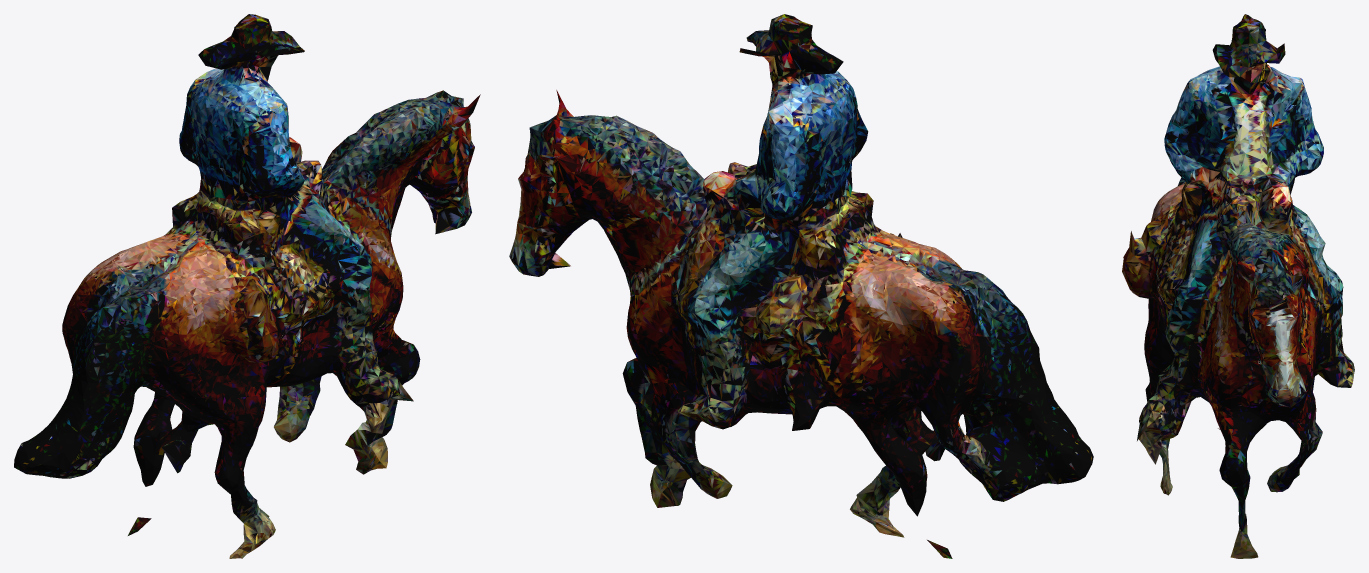
File: arthur_horse-canny.glb
The picture shows the model from 3 angles, left to right: view 1: azimuth 30°, elevation 25°; view 2: azimuth 150°, elevation 25°; view 3: azimuth 270°, elevation 25°; orthographic projection. The views are drawn at different scales.
Parts seen in each view (by area): view 1: extracted_mesh; view 2: extracted_mesh; view 3: extracted_mesh.
Boxes of the visible parts, x1,y1,x2,y2 form: extracted_mesh: (14,14,480,558); extracted_mesh: (509,14,1093,558); extracted_mesh: (1122,14,1354,558).
Size of the model in its own units: 1.1 by 1.06 by 0.4492.
Materials: 1 (1 with a texture image).
